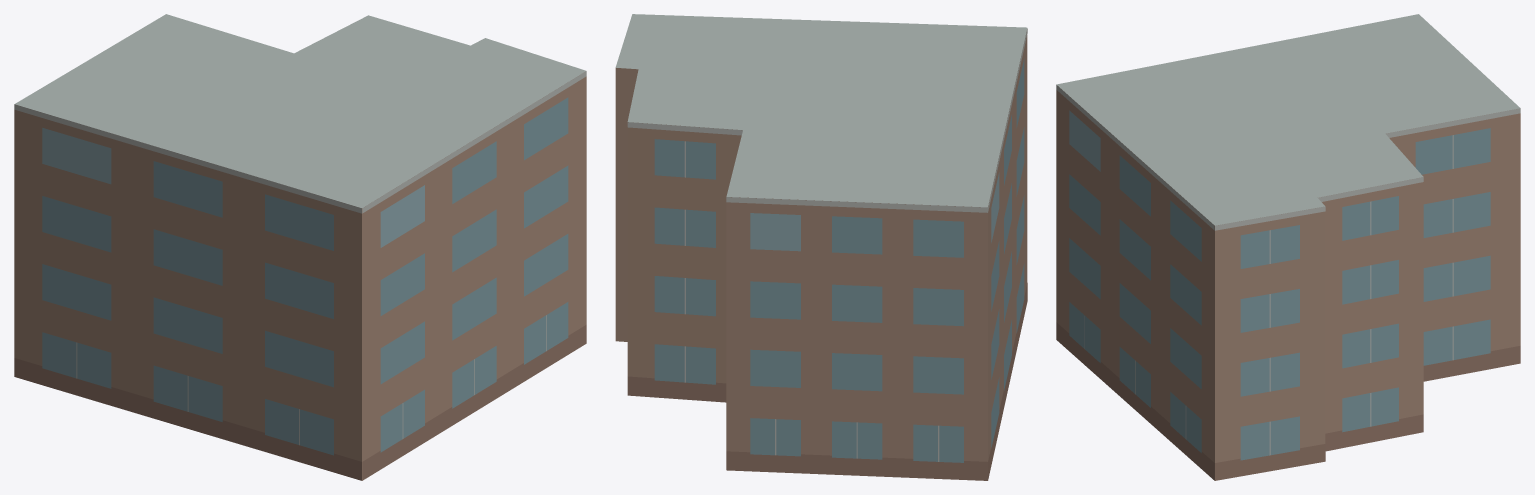
File: survey-upis-32725210.glb
3 renders of one model, left to right at view 1: azimuth 30°, elevation 25°; view 2: azimuth 150°, elevation 25°; view 3: azimuth 270°, elevation 25°, orthographic. The views are drawn at different scales.
Visible parts, largest first — view 1: survey-upis-32725210.tmp; view 2: survey-upis-32725210.tmp; view 3: survey-upis-32725210.tmp.
Boxes of the visible parts, <box> form: survey-upis-32725210.tmp: <box>14,14,586,480</box>; survey-upis-32725210.tmp: <box>615,14,1027,480</box>; survey-upis-32725210.tmp: <box>1056,14,1520,480</box>.
Size of the model in its own units: 21.89 by 12.3 by 20.3.
